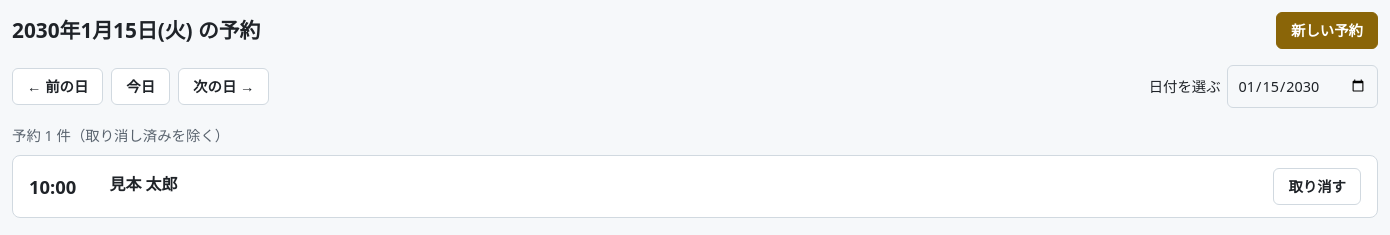
Scenario: 予約の一覧 › 「次の日」で URL の日付が変わり、その日の予約を読み直す
This screenshot has width=1390, height=235.
Click the button "次の日 →". click: x=224, y=86
box: 178,68 -> 269,105
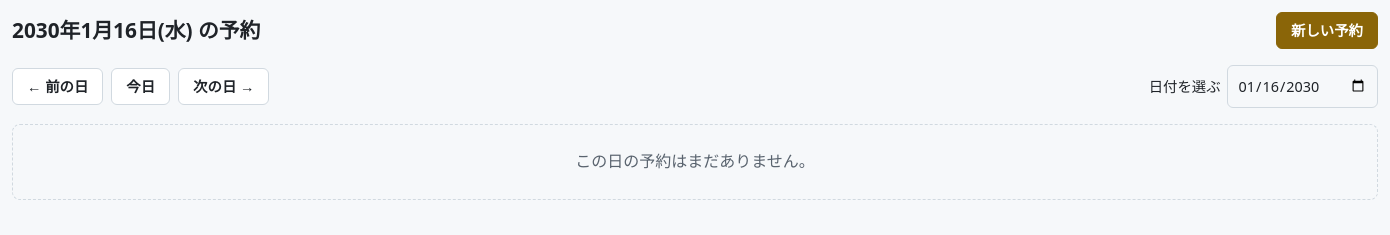
Result: the heading "2030年1月16日(水) の予約" is shown at 12,14 -> 260,47
